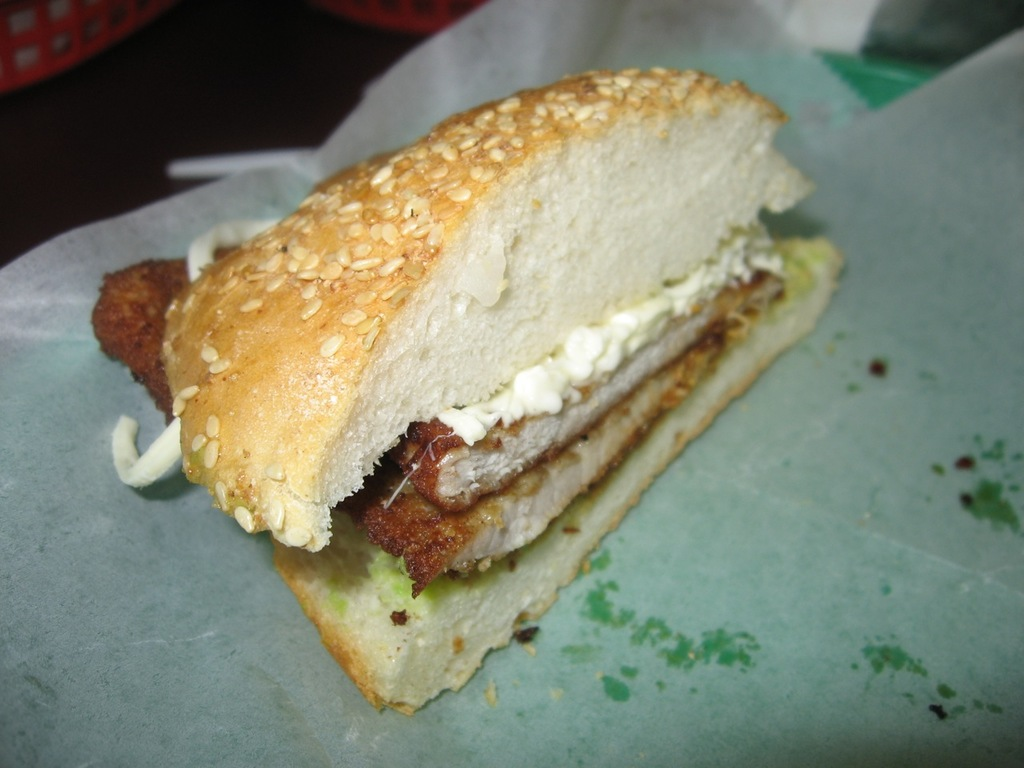hamburger: (111, 67, 839, 717)
